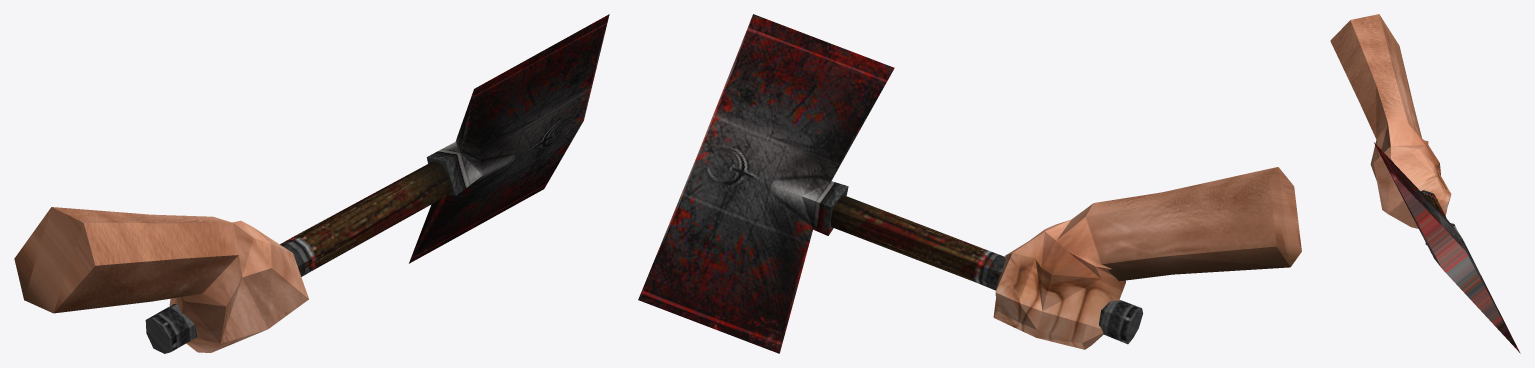
Rendered from v_axe_7.obj.
3 views of the same model, side by side, from view 1: azimuth 30°, elevation 25°; view 2: azimuth 150°, elevation 25°; view 3: azimuth 270°, elevation 25° (orthographic). The views are drawn at different scales.
Size of the model in its own units: 50.2 by 22.01 by 19.36.
Materials: 1 (1 with a texture image).
